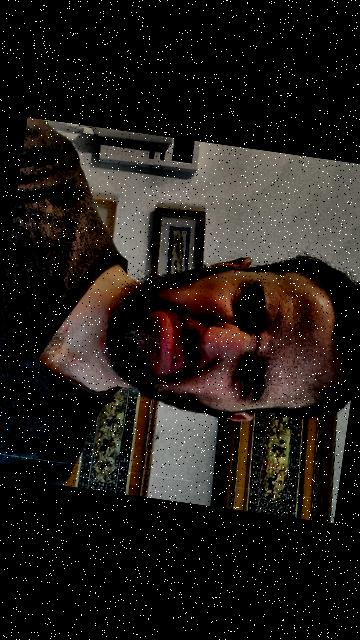disgust: (86, 223, 360, 448)
